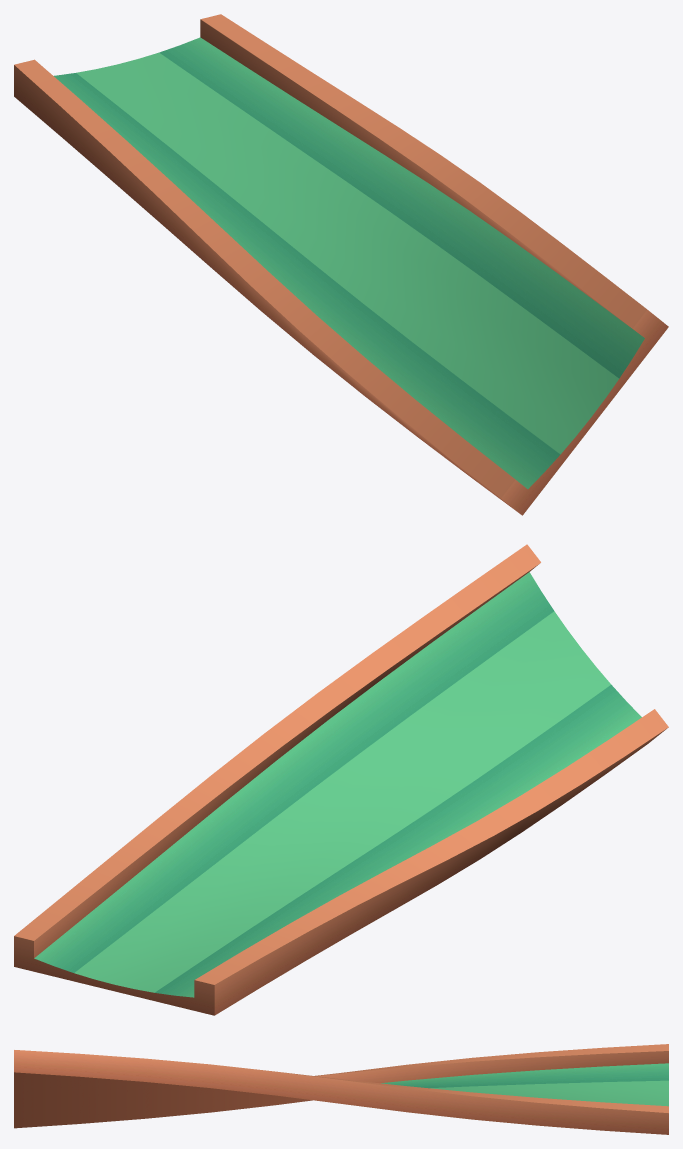
Rendered from spline-concave-straight-skew-right.glb.
3 views of the same model, one above another, from view 1: azimuth 30°, elevation 25°; view 2: azimuth 150°, elevation 25°; view 3: azimuth 270°, elevation 25° (orthographic). The views are drawn at different scales.
Visible parts, largest first — view 1: spline-concave-straight-skew-right; view 2: spline-concave-straight-skew-right; view 3: spline-concave-straight-skew-right.
Boxes of the visible parts, x1,y1,x2,y2 form: spline-concave-straight-skew-right: (14,14,668,515); spline-concave-straight-skew-right: (14,544,668,1015); spline-concave-straight-skew-right: (14,1044,668,1134).
Size of the model in its own units: 1.02 by 0.8108 by 4.
Materials: 1 (1 with a texture image).
